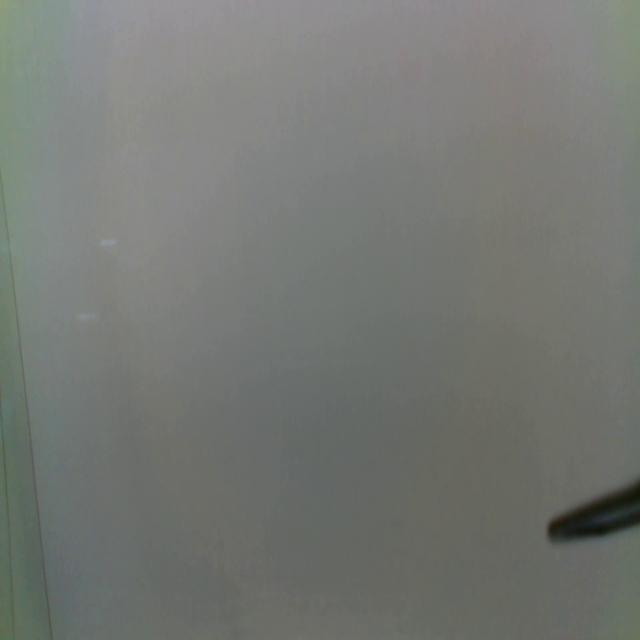crease: (0, 167, 54, 640)
